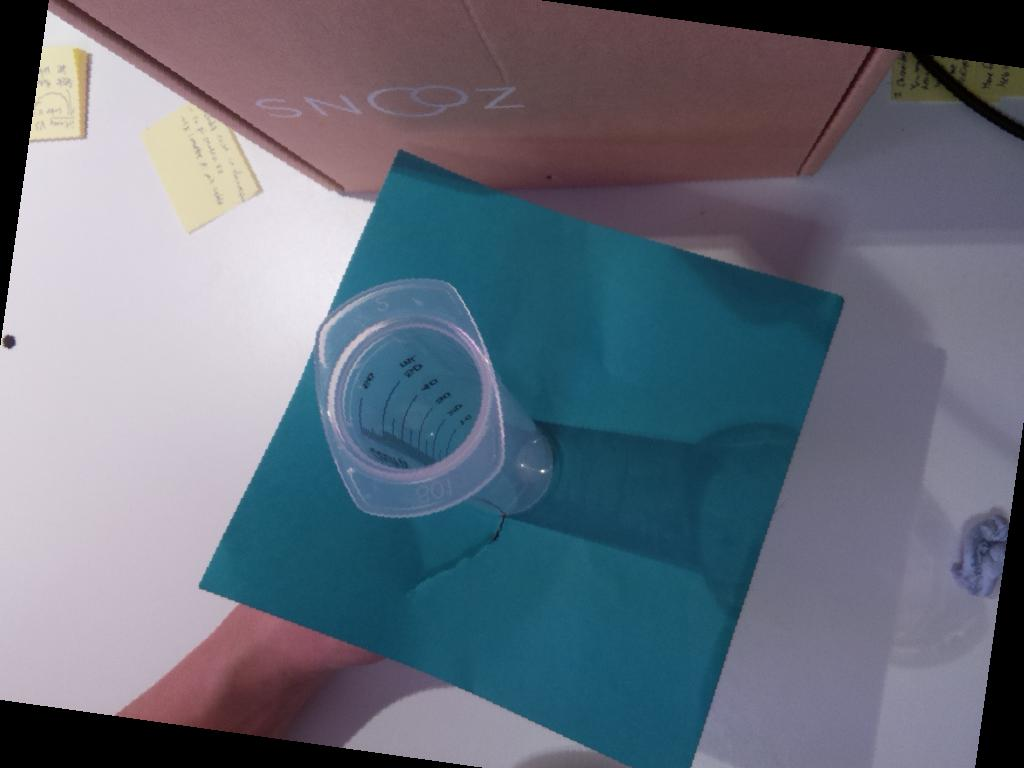clean: (312, 274, 508, 519)
